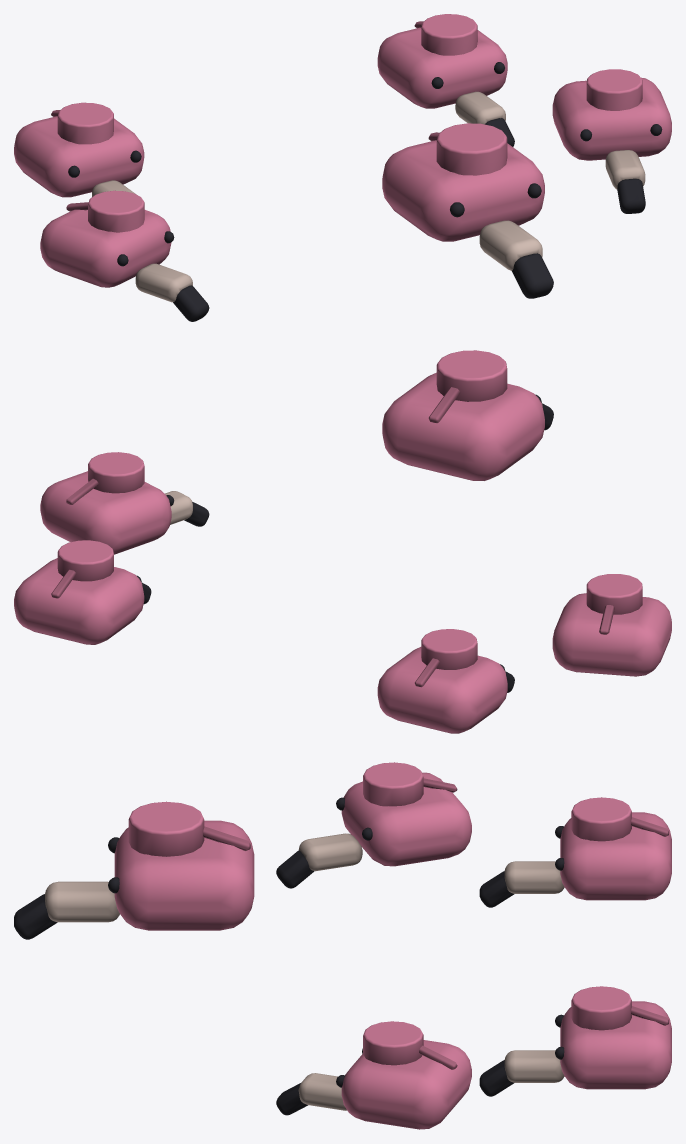
Rendered from flamingo-flock-lod0.glb.
The picture shows the model from 3 angles, top to bottom: view 1: azimuth 30°, elevation 25°; view 2: azimuth 150°, elevation 25°; view 3: azimuth 270°, elevation 25°; orthographic projection. The views are drawn at different scales.
Visible parts, largest first — view 1: cap_hat, att3_hat, att2_hat, att0_hat, att1_hat; view 2: cap_hat, att2_hat, att1_hat, att0_hat, att3_hat; view 3: cap_hat, att3_hat, att0_hat, att1_hat, att2_hat.
Part boxes in pixels (left/top/right/bottom): cap_hat: left=382, top=123, right=553, bottom=298; att3_hat: left=40, top=190, right=209, bottom=321; att2_hat: left=552, top=69, right=671, bottom=213; att0_hat: left=377, top=14, right=514, bottom=146; att1_hat: left=14, top=102, right=144, bottom=197; cap_hat: left=382, top=350, right=553, bottom=480; att2_hat: left=40, top=452, right=209, bottom=554; att1_hat: left=377, top=629, right=514, bottom=733; att0_hat: left=14, top=540, right=151, bottom=644; att3_hat: left=552, top=574, right=671, bottom=676; cap_hat: left=14, top=801, right=254, bottom=939; att3_hat: left=276, top=762, right=471, bottom=888; att0_hat: left=479, top=986, right=671, bottom=1096; att1_hat: left=479, top=797, right=671, bottom=907; att2_hat: left=276, top=1021, right=471, bottom=1129.
Size of the model in its own units: 2.1 by 0.5584 by 1.83.
